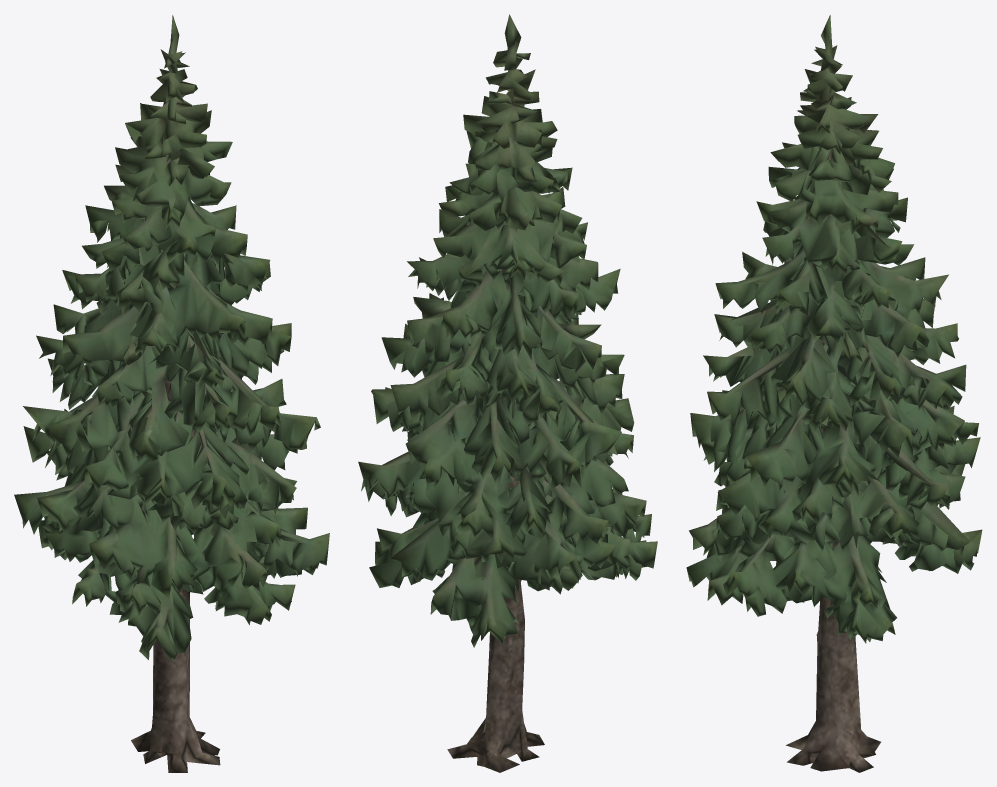
The picture shows the model from 3 angles, left to right: view 1: azimuth 30°, elevation 25°; view 2: azimuth 150°, elevation 25°; view 3: azimuth 270°, elevation 25°; orthographic projection.
Parts seen in each view (by area): view 1: valley-pine; view 2: valley-pine; view 3: valley-pine.
Boxes of the visible parts, x1,y1,x2,y2 form: valley-pine: [14, 15, 329, 772]; valley-pine: [358, 14, 657, 772]; valley-pine: [686, 15, 982, 772].
Size of the model in its own units: 3.44 by 9.99 by 3.63.
Materials: 1 (1 with a texture image).
